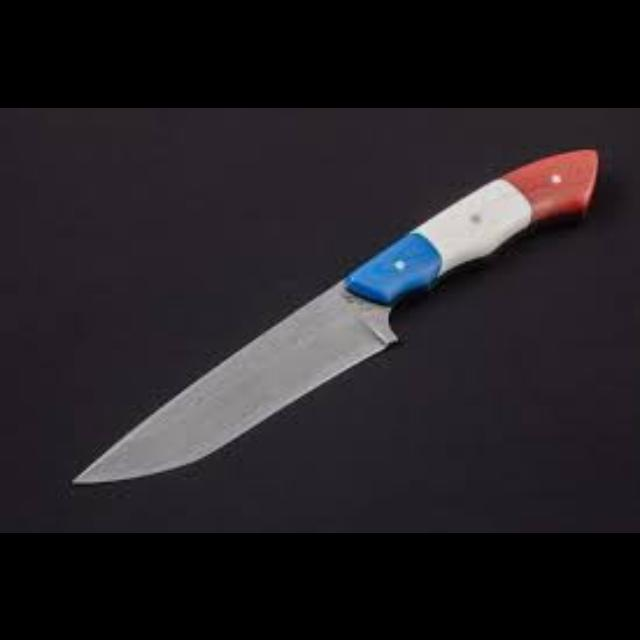knife: (70, 142, 610, 484)
